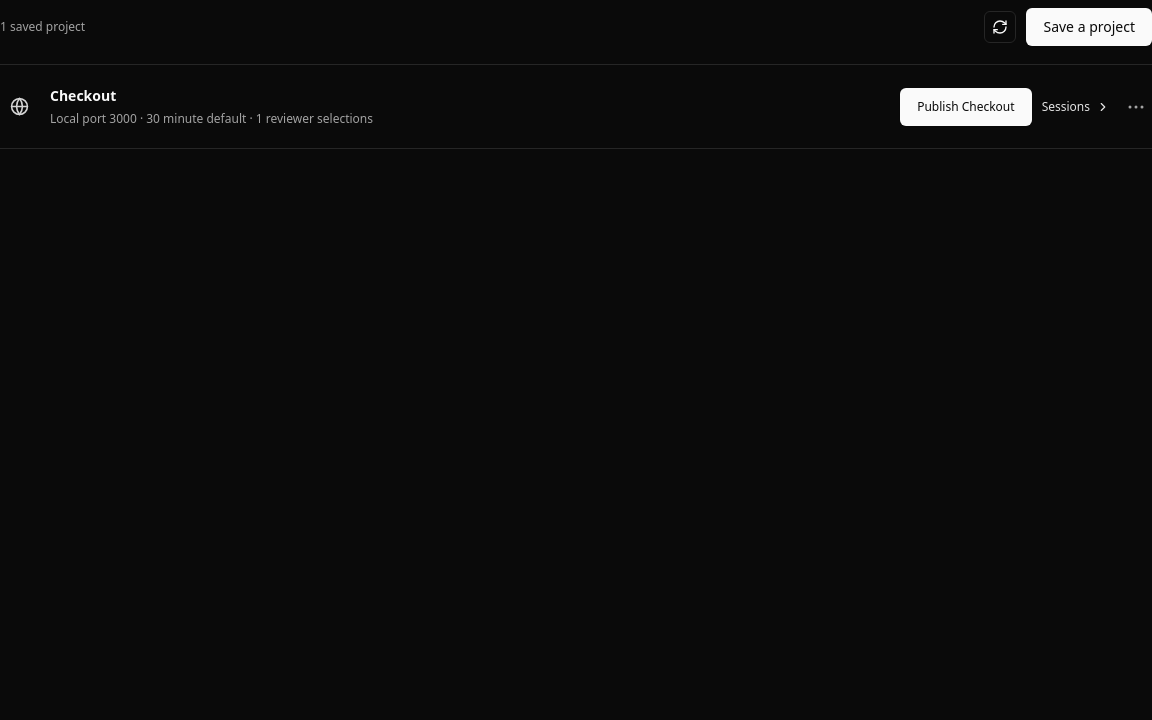
Saved Beam projects › preserves edits on version conflict and prevents blind retry
This screenshot has width=1152, height=720.
Click the button named "Actions for Checkout".
click(1136, 106)  # box 1120,90 -> 1151,122
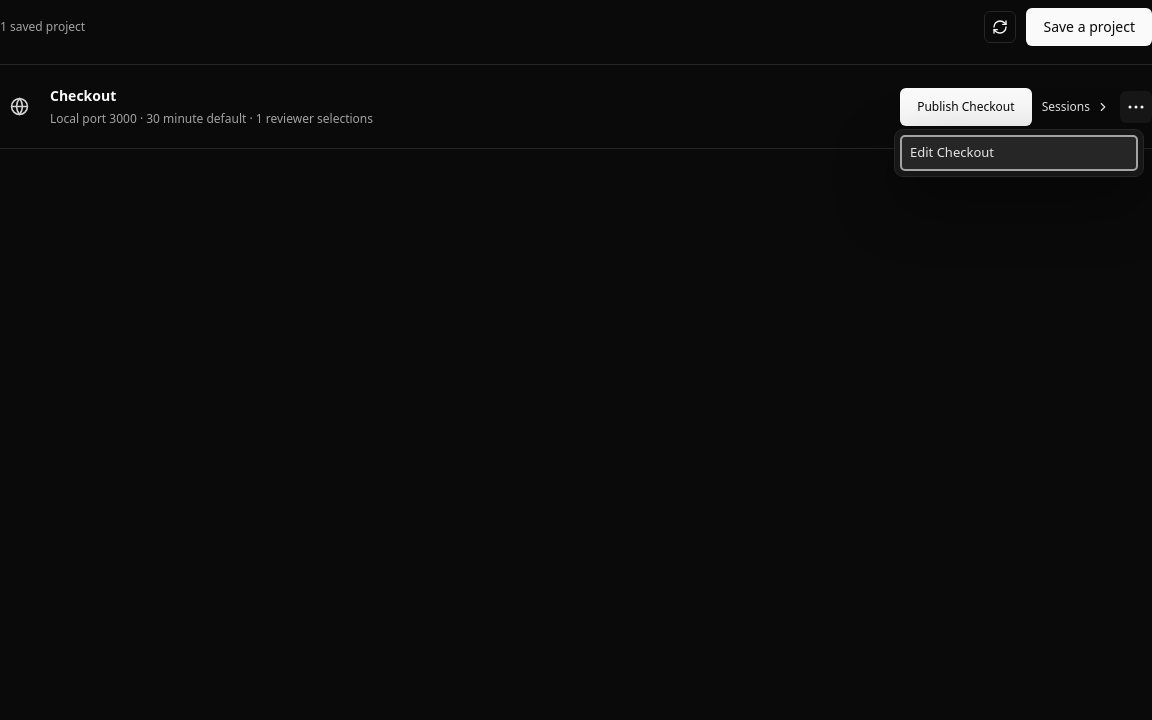
Click the menu item "Edit Checkout".
click(1019, 152)  # box 900,134 -> 1138,170
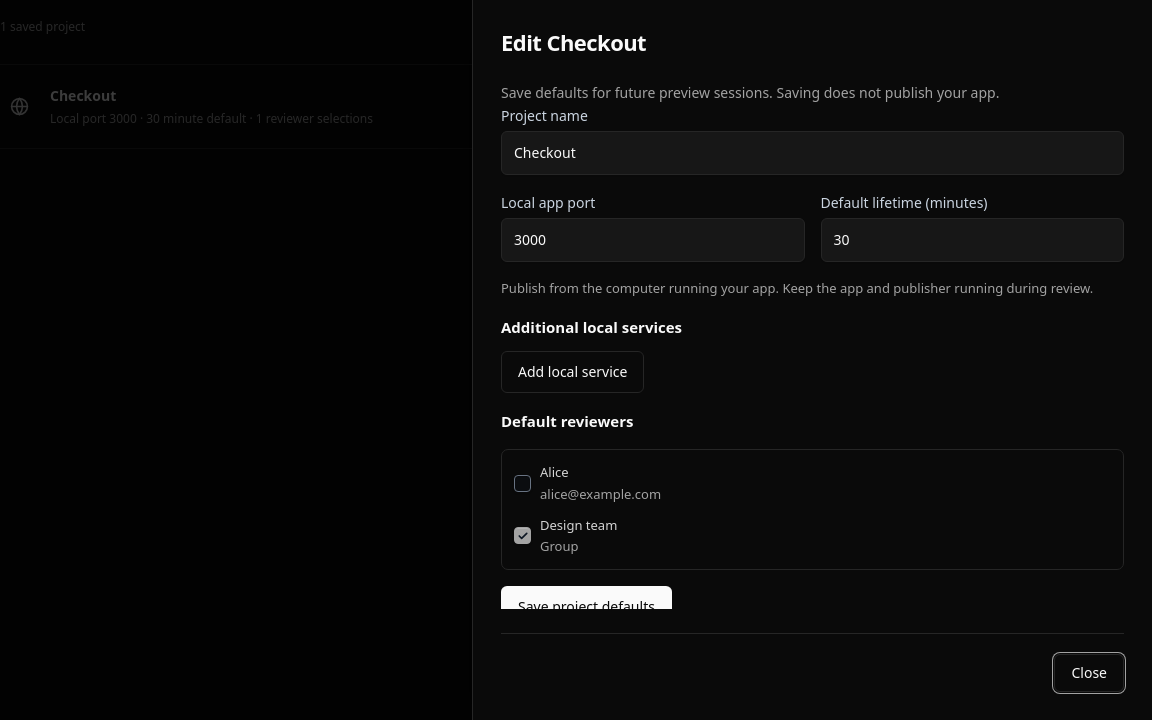
Now the checkbox labelled "Design team Group" is shown, box 514,527 -> 531,544
Replace the text in the field labelled "Project name" with "Edited checkout" at (812, 153), box 501,131 -> 1124,175
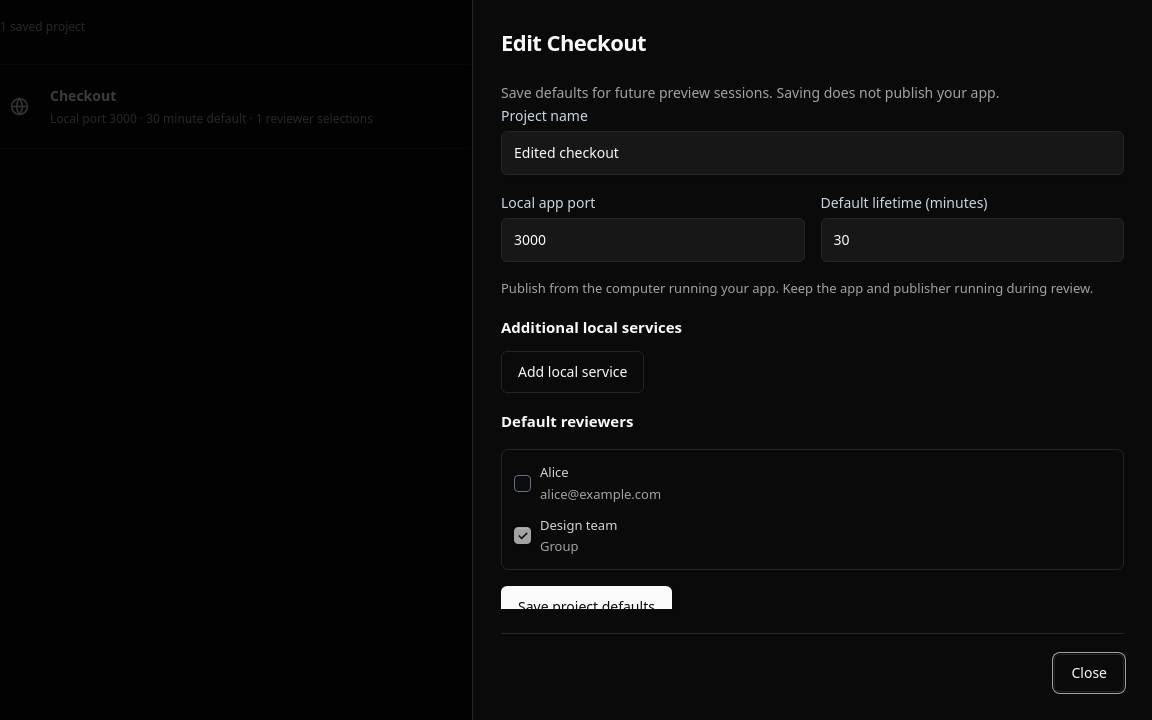
Click the button "Save project defaults".
click(586, 606)  # box 501,586 -> 672,627
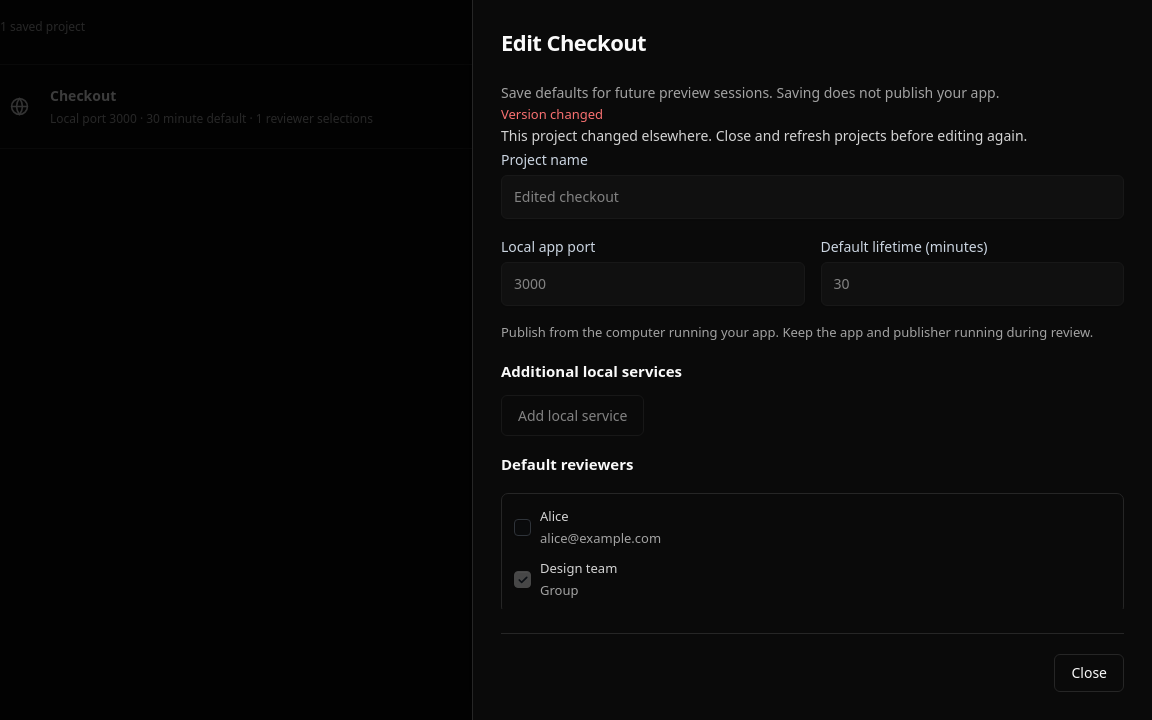
Now the text "This project changed elsewhere" is shown, box 501,126 -> 1027,146
